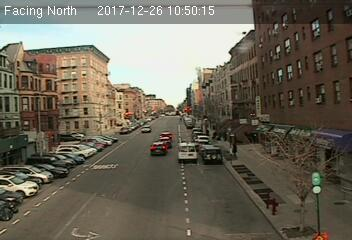car: (202, 146, 223, 163), (150, 141, 166, 158)
truck: (178, 141, 196, 163)
